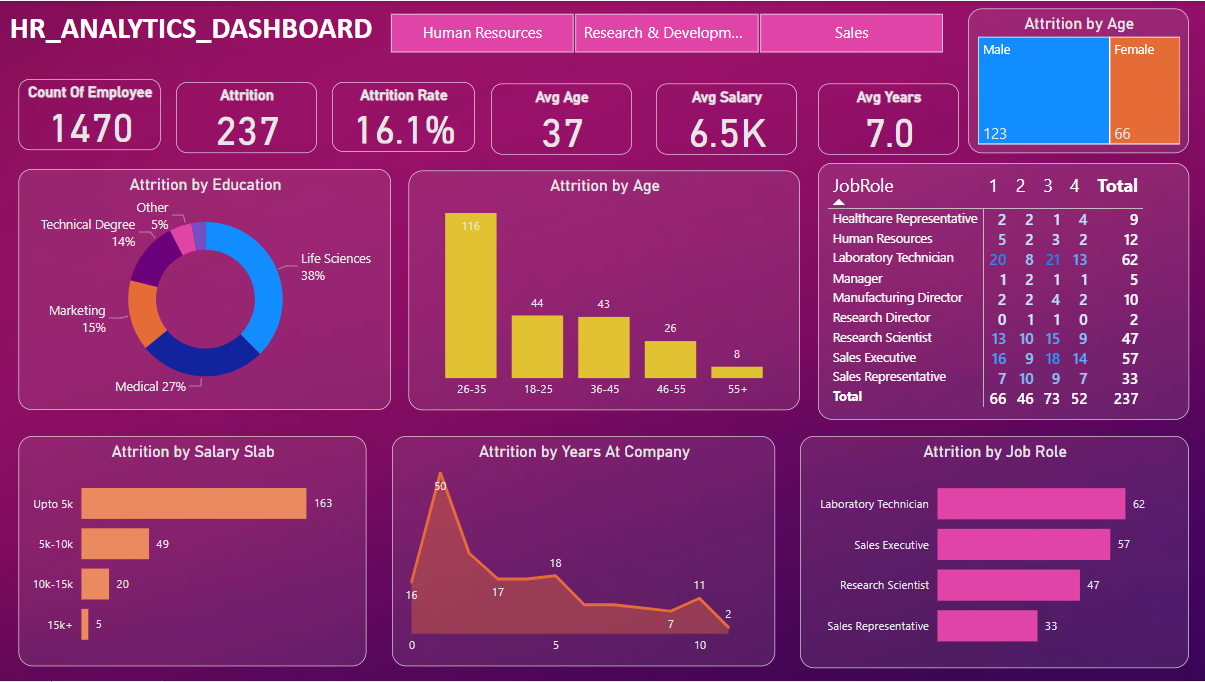

This screenshot's page, from the dashboard's own definition file:
{"tool":"powerbi","page":{"name":"Page 1","canvas":[1280,720],"ordinal":0},"visuals":[{"type":"card","title":"Count Of Employee","fields":{"Values":["CountNonNull(HR_Analytics.EmpID)"]},"box":[20.7,82.6,151,75],"z":0},{"type":"card","title":"Attrition","fields":{"Values":["Sum(HR_Analytics.Attrition Count)"]},"box":[187.1,85,149.3,75.6],"z":1000},{"type":"card","title":"Attrition Rate","fields":{"Values":["HR_Analytics.AttritionRate"]},"box":[353.4,85,151.2,73.7],"z":2000},{"type":"card","title":"Avg Age ","fields":{"Values":["Avg(HR_Analytics.Age)"]},"box":[521.6,86.9,149.3,75.6],"z":3000},{"type":"card","title":"Avg Salary","fields":{"Values":["Avg(HR_Analytics.MonthlyIncome)"]},"box":[695.4,86.9,149.3,75.6],"z":4000},{"type":"card","title":"Avg Years","fields":{"Values":["Avg(HR_Analytics.YearsAtCompany)"]},"box":[867.4,86.9,149.3,75.6],"z":5000},{"type":"donutChart","title":"Attrition by Education ","fields":{"Category":["HR_Analytics.EducationField"],"Y":["Sum(HR_Analytics.Attrition Count)"]},"box":[20.8,177.6,395,255.1],"z":6000},{"type":"columnChart","title":"Attrition by Age ","fields":{"Category":["HR_Analytics.AgeGroup"],"Y":["Sum(HR_Analytics.Attrition Count)"]},"box":[433.9,179.6,414.8,254.3],"z":7000},{"type":"pivotTable","fields":{"Columns":["HR_Analytics.JobSatisfaction"],"Rows":["HR_Analytics.JobRole"],"Values":["Sum(HR_Analytics.Attrition Count)"]},"box":[867.4,172,393.1,272.1],"z":8000},{"type":"barChart","title":"Attrition by Salary Slab  ","fields":{"Category":["HR_Analytics.SalarySlab"],"Y":["Sum(HR_Analytics.Attrition Count)"]},"box":[20.8,461.1,368.5,243.8],"z":9000},{"type":"barChart","title":"Attrition by  Job Role","fields":{"Category":["HR_Analytics.JobRole"],"Y":["Sum(HR_Analytics.Attrition Count)"]},"box":[848.5,461.1,412,245.7],"z":10000},{"type":"areaChart","title":"Attrition by Years At Company ","fields":{"Category":["HR_Analytics.YearsAtCompany"],"Y":["Sum(HR_Analytics.Attrition Count)"]},"box":[415.8,461.1,406.3,243.8],"z":11000},{"type":"treemap","title":"Attrition by Age ","fields":{"Group":["HR_Analytics.Gender"],"Values":["Sum(HR_Analytics.Attrition Count)"]},"box":[1026.1,7.6,234.3,153.1],"z":12000},{"type":"slicer","fields":{"Values":["HR_Analytics.Department"]},"box":[389.3,5.7,635,54.8],"z":13000},{"type":"textbox","box":[5.7,3.8,438.4,56.7],"z":14000}]}

Visuals, with their boxes in screenshot pixels (x1, y1, x2, y2), scaled from the page's 1280x720 canvas onto the 1205x682 screenshot:
"Count Of Employee" card: l=19, t=78, r=162, b=149
"Attrition" card: l=176, t=81, r=317, b=152
"Attrition Rate" card: l=333, t=81, r=475, b=150
"Avg Age " card: l=491, t=82, r=632, b=154
"Avg Salary" card: l=655, t=82, r=795, b=154
"Avg Years" card: l=817, t=82, r=957, b=154
"Attrition by Education " donutChart: l=20, t=168, r=391, b=410
"Attrition by Age " columnChart: l=408, t=170, r=799, b=411
pivotTable - HR_Analytics.JobSatisfaction x HR_Analytics.JobRole: l=817, t=163, r=1187, b=421
"Attrition by Salary Slab  " barChart: l=20, t=437, r=366, b=668
"Attrition by  Job Role" barChart: l=799, t=437, r=1187, b=669
"Attrition by Years At Company " areaChart: l=391, t=437, r=774, b=668
"Attrition by Age " treemap: l=966, t=7, r=1187, b=152
slicer - HR_Analytics.Department: l=366, t=5, r=964, b=57
textbox: l=5, t=4, r=418, b=57
